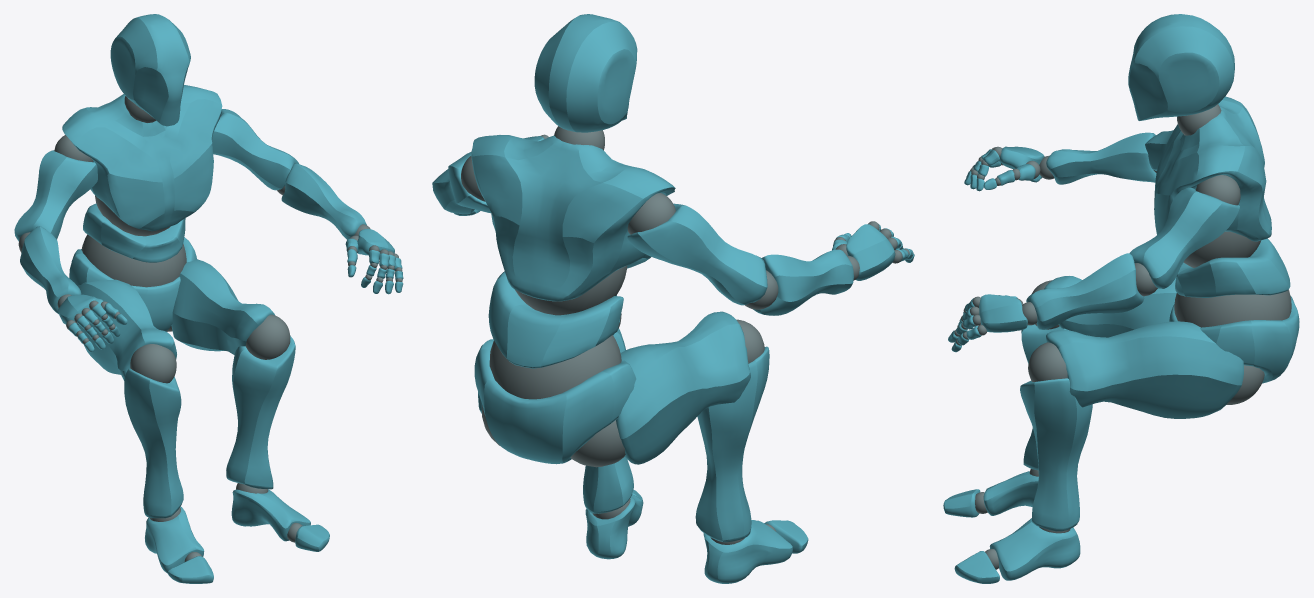
The model's file is man.glb.
3 views of the same model, side by side, from view 1: azimuth 30°, elevation 25°; view 2: azimuth 150°, elevation 25°; view 3: azimuth 270°, elevation 25° (orthographic). The views are drawn at different scales.
Visible parts, largest first — view 1: Alpha_Surface, Alpha_Joints; view 2: Alpha_Surface, Alpha_Joints; view 3: Alpha_Surface, Alpha_Joints.
Boxes of the visible parts, x1=… form: Alpha_Surface: x1=14, y1=14, x2=403, y2=583; Alpha_Joints: x1=18, y1=96, x2=402, y2=561; Alpha_Surface: x1=432, y1=14, x2=914, y2=583; Alpha_Joints: x1=461, y1=126, x2=909, y2=544; Alpha_Surface: x1=943, y1=14, x2=1299, y2=583; Alpha_Joints: x1=954, y1=104, x2=1291, y2=569.
Bounding box in the file's own units: 2.69 × 3.8 × 2.34.
